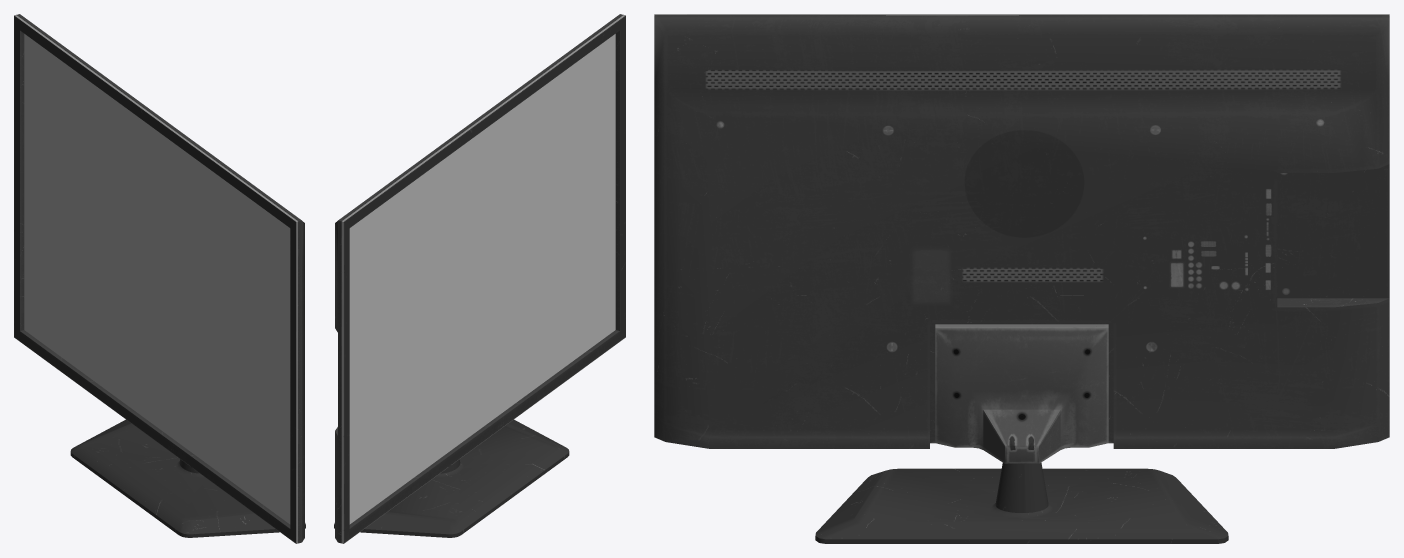
3 renders of one model, left to right at view 1: azimuth 30°, elevation 25°; view 2: azimuth 150°, elevation 25°; view 3: azimuth 270°, elevation 25°, orthographic. The views are drawn at different scales.
Visible parts, largest first — view 1: SM_TV_LOD0; view 2: SM_TV_LOD0; view 3: SM_TV_LOD0.
Part boxes in pixels (x1,y1,x2,y2): SM_TV_LOD0: (14, 14, 305, 543); SM_TV_LOD0: (334, 14, 625, 543); SM_TV_LOD0: (654, 14, 1389, 543).
Size of the model in its own units: 25.52 by 120 by 86.76.
